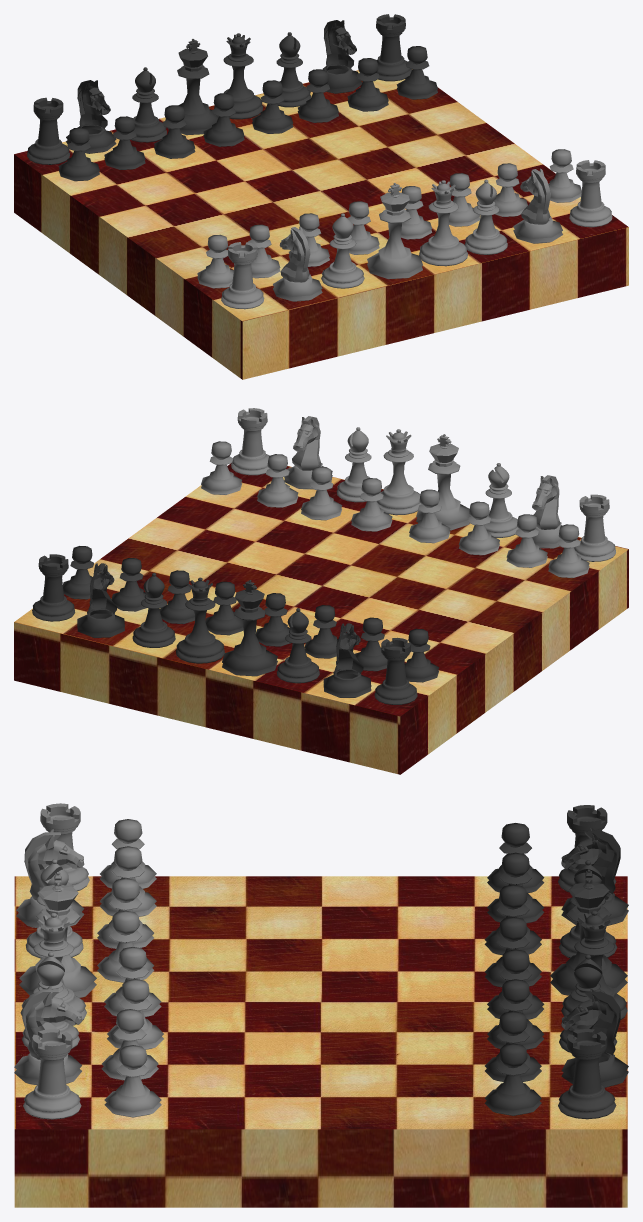
File: chess.gltf
3 renders of one model, top to bottom at view 1: azimuth 30°, elevation 25°; view 2: azimuth 150°, elevation 25°; view 3: azimuth 270°, elevation 25°, orthographic. The views are drawn at different scales.
Size of the model in its own units: 39.01 by 13.83 by 39.93.
Materials: 3 (1 with a texture image).
